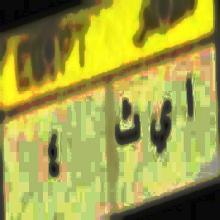4: (46, 129, 61, 185)
alif: (180, 75, 196, 127)
thaa: (113, 97, 142, 150)
yaa: (148, 99, 172, 161)
